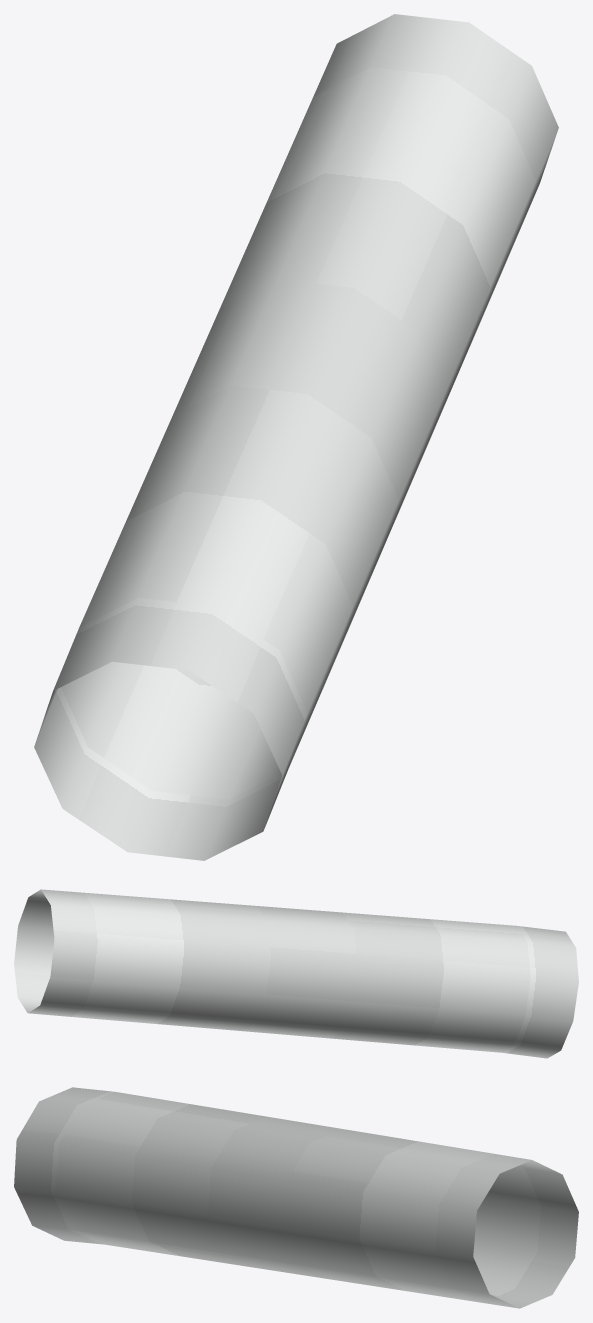
Rendered from nycsignalarm_diagonal12_c3.obj.
3 renders of one model, top to bottom at view 1: azimuth 30°, elevation 25°; view 2: azimuth 150°, elevation 25°; view 3: azimuth 270°, elevation 25°, orthographic. The views are drawn at different scales.
Parts seen in each view (by area): view 1: nycsignalarm_diagonal12_c3; view 2: nycsignalarm_diagonal12_c3; view 3: nycsignalarm_diagonal12_c3.
Boxes of the visible parts, x1,y1,x2,y2 form: nycsignalarm_diagonal12_c3: (34, 14, 558, 860); nycsignalarm_diagonal12_c3: (14, 889, 578, 1058); nycsignalarm_diagonal12_c3: (14, 1087, 578, 1308).
Bounding box in the file's own units: 1.23 × 0.6041 × 1.23.
